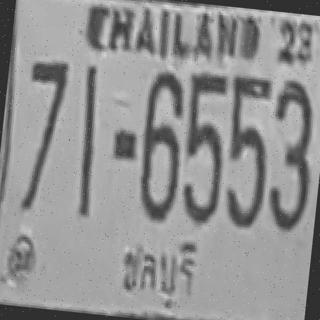N00: (177, 119, 226, 222), (221, 123, 270, 226)
N07: (23, 58, 68, 147)
P13: (107, 232, 201, 306)
